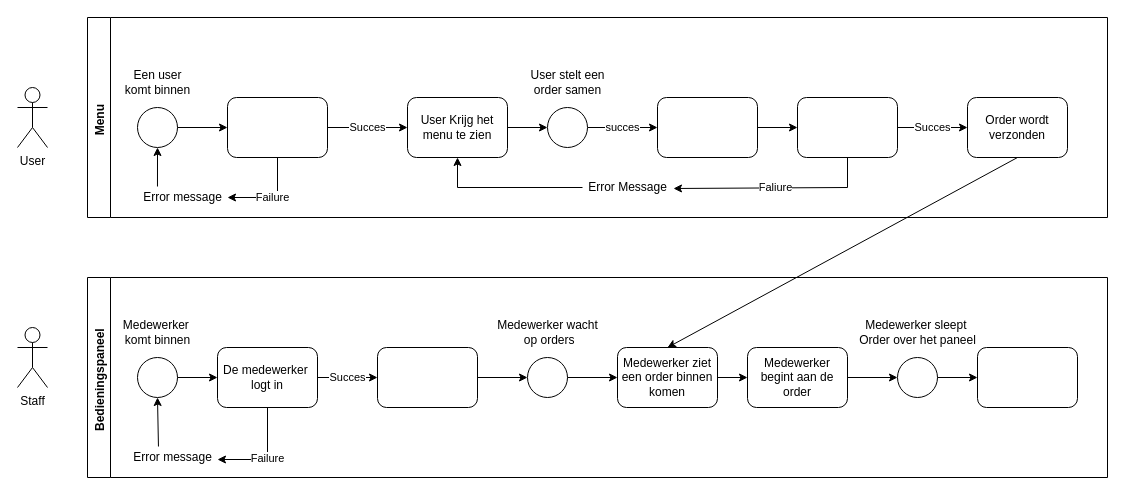
This 1125x495 diagram has some shape labels left out. The shapes that lost their labels are listed below. From the top down, each one's centre as x and y in pixels, then its label:
(x=277, y=127): User wordt gekoppeld aan een tafel
(x=707, y=127): Product wordt toegevoegd aan de order
(x=847, y=127): User bestelt een order
(x=427, y=377): Medewerker gaat naar het paneel
(x=1027, y=377): Order wordt verzet naar done.
